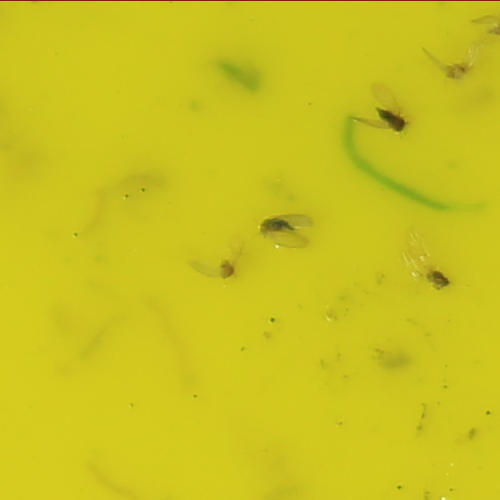psylla: (255, 206, 300, 240), (375, 106, 409, 135), (441, 54, 471, 84), (215, 261, 243, 283)
